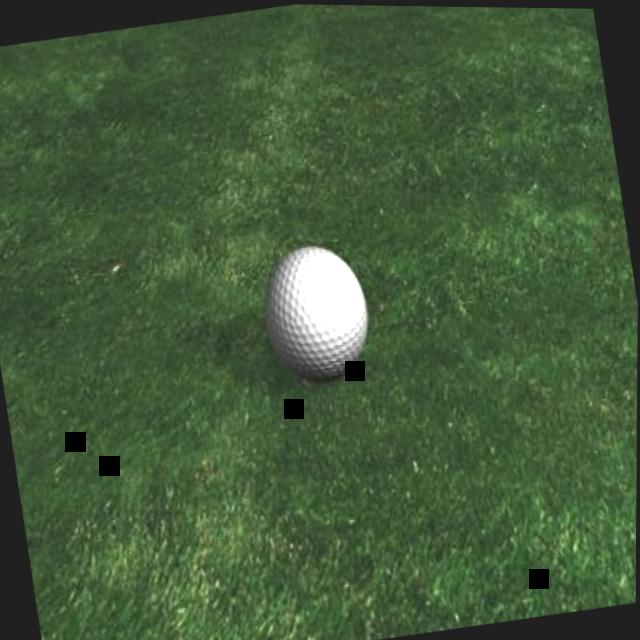golf ball: (253, 229, 384, 399)
